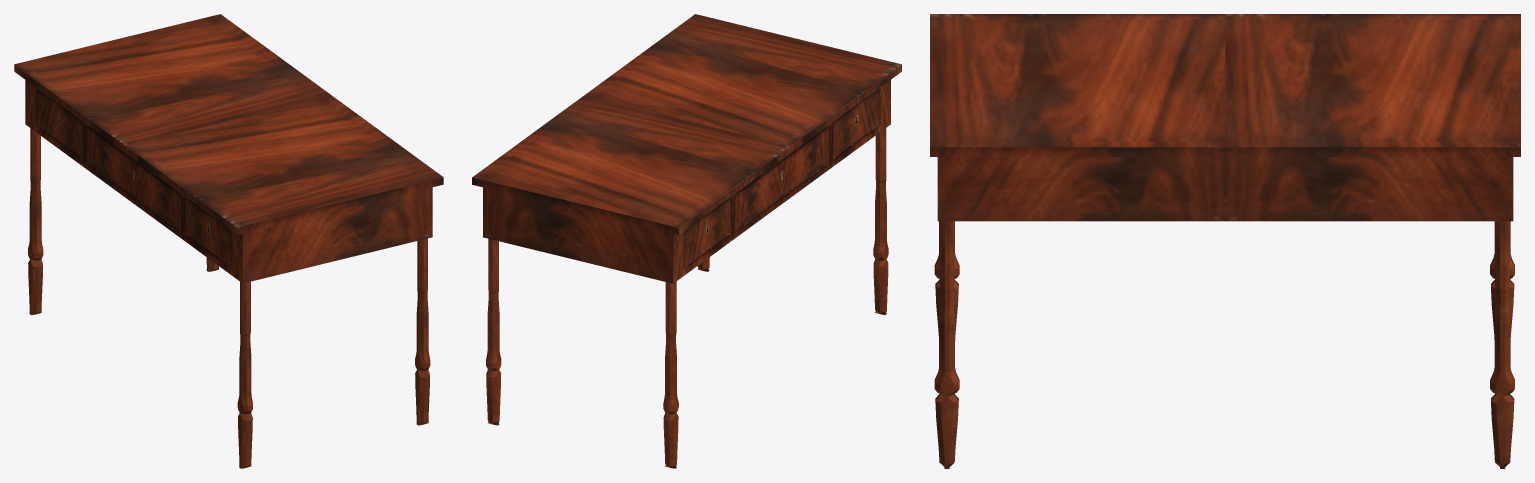
File: desk2.fbx
3 renders of one model, left to right at view 1: azimuth 30°, elevation 25°; view 2: azimuth 150°, elevation 25°; view 3: azimuth 270°, elevation 25°, orthographic. The views are drawn at different scales.
Parts seen in each view (by area): view 1: Cube.002; view 2: Cube.002; view 3: Cube.002.
Part boxes in pixels (bbox=[...]): Cube.002: bbox=[14, 14, 443, 468]; Cube.002: bbox=[472, 14, 901, 468]; Cube.002: bbox=[930, 14, 1520, 468].
Size of the model in its own units: 217 by 249 by 407.
1 material, 1 textured.
